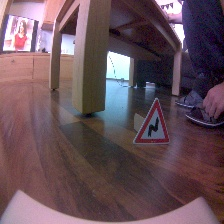vorsicht: (133, 97, 172, 146)
